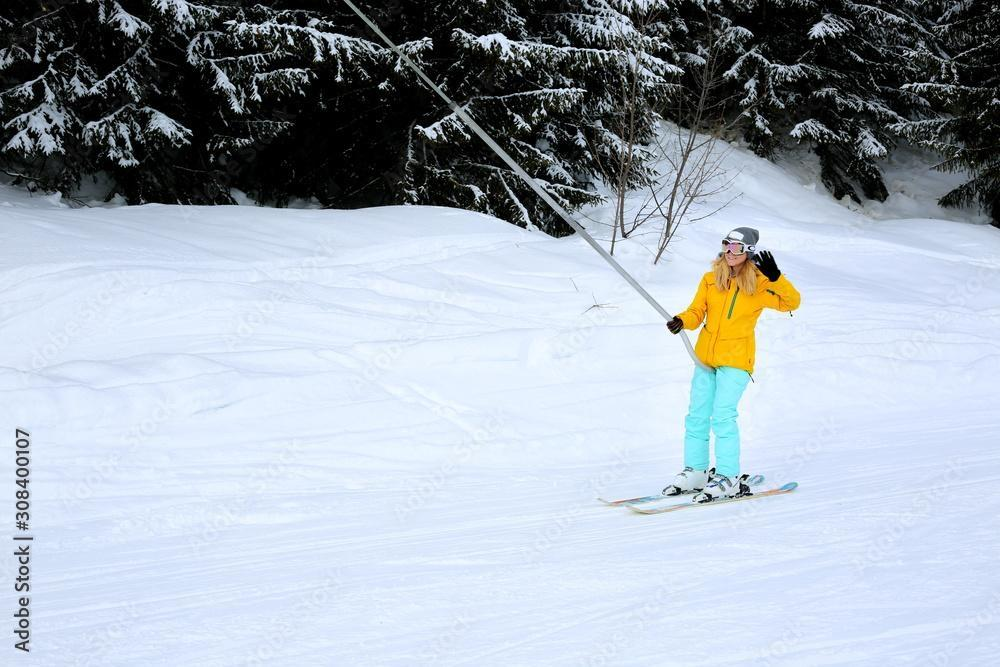Skis: (577, 452, 830, 532)
